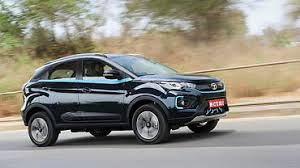Tata Nexon: (18, 49, 229, 148)
